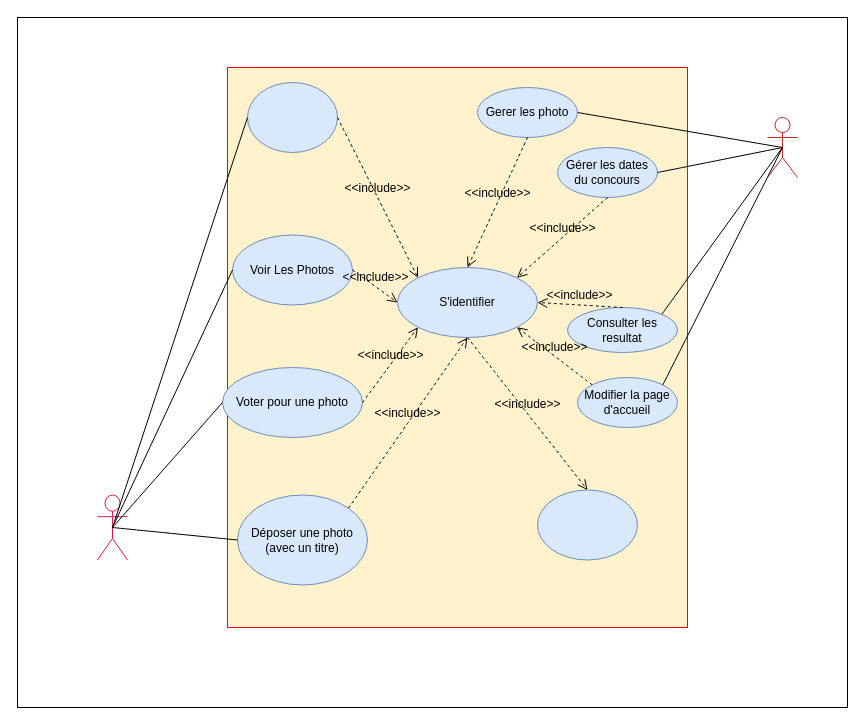
This 865x725 diagram has some shape labels left out. The shapes that lost their labels are listed below. From the top down, each one's box as (x1, y1, x2, y2) in pixels, then its label:
(246, 82, 338, 152): Contacter Support
(766, 116, 798, 178): ADMINISTRATOR
(96, 494, 128, 560): USER
(536, 489, 638, 560): S'inscrire (via l'ENT)
